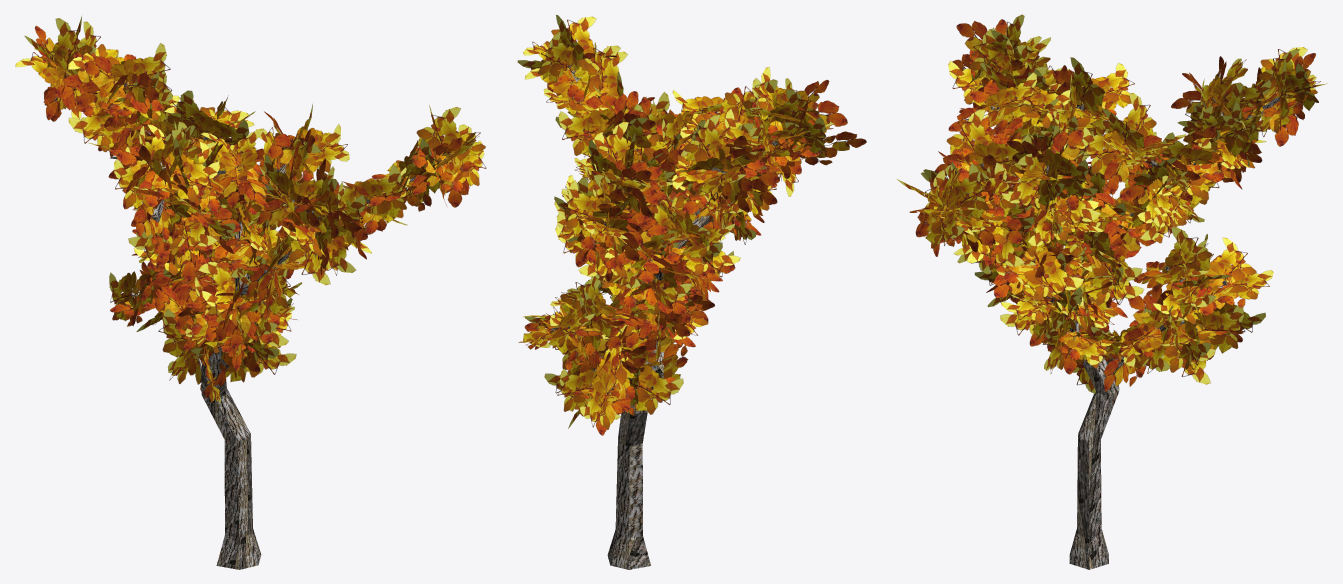
The picture shows the model from 3 angles, left to right: view 1: azimuth 30°, elevation 25°; view 2: azimuth 150°, elevation 25°; view 3: azimuth 270°, elevation 25°; orthographic projection. The views are drawn at different scales.
Visible parts, largest first — view 1: tree, tree|branch|Dupli|168, tree|branch|Dupli|45, tree|branch|Dupli|32, tree|branch|Dupli|25, tree|branch|Dupli|278, tree|branch|Dupli|297, tree|branch|Dupli|279, tree|branch|Dupli|24, tree|branch|Dupli|201, tree|branch|Dupli|33, tree|branch|Dupli|237 (+27 smaller); view 2: tree, tree|branch|Dupli|42, tree|branch|Dupli|177, tree|branch|Dupli|266, tree|branch|Dupli|26, tree|branch|Dupli|240, tree|branch|Dupli|250, tree|branch|Dupli|267, tree|branch|Dupli|167, tree|branch|Dupli|19, tree|branch|Dupli|35, tree|branch|Dupli|270 (+48 smaller); view 3: tree, branch, tree|branch|Dupli|279, tree|branch|Dupli|252, tree|branch|Dupli|242, tree|branch|Dupli|35, tree|branch|Dupli|210, tree|branch|Dupli|243, tree|branch|Dupli|201, tree|branch|Dupli|273, tree|branch|Dupli|270, tree|branch|Dupli|33 (+45 smaller).
Part boxes in pixels (x1=…): tree: x1=66, y1=74, x2=447, y2=569; tree|branch|Dupli|168: x1=116, y1=145, x2=220, y2=202; tree|branch|Dupli|45: x1=77, y1=43, x2=170, y2=107; tree|branch|Dupli|32: x1=416, y1=107, x2=469, y2=207; tree|branch|Dupli|25: x1=359, y1=164, x2=407, y2=234; tree|branch|Dupli|278: x1=208, y1=129, x2=264, y2=207; tree|branch|Dupli|297: x1=68, y1=44, x2=163, y2=114; tree|branch|Dupli|279: x1=201, y1=132, x2=269, y2=207; tree|branch|Dupli|24: x1=411, y1=124, x2=485, y2=194; tree|branch|Dupli|201: x1=167, y1=90, x2=221, y2=142; tree|branch|Dupli|33: x1=412, y1=140, x2=486, y2=192; tree|branch|Dupli|237: x1=268, y1=124, x2=340, y2=181; tree: x1=550, y1=65, x2=821, y2=569; tree|branch|Dupli|42: x1=562, y1=180, x2=642, y2=254; tree|branch|Dupli|177: x1=684, y1=114, x2=739, y2=209; tree|branch|Dupli|266: x1=591, y1=334, x2=635, y2=435; tree|branch|Dupli|26: x1=573, y1=51, x2=627, y2=116; tree|branch|Dupli|240: x1=558, y1=108, x2=652, y2=155; tree|branch|Dupli|250: x1=635, y1=365, x2=683, y2=414; tree|branch|Dupli|267: x1=579, y1=351, x2=629, y2=429; tree|branch|Dupli|167: x1=751, y1=78, x2=847, y2=142; tree|branch|Dupli|19: x1=644, y1=328, x2=688, y2=402; tree|branch|Dupli|35: x1=538, y1=31, x2=585, y2=95; tree|branch|Dupli|270: x1=557, y1=368, x2=596, y2=416; tree: x1=980, y1=92, x2=1287, y2=569; branch: x1=993, y1=243, x2=1083, y2=301; tree|branch|Dupli|279: x1=948, y1=72, x2=1038, y2=136; tree|branch|Dupli|252: x1=1196, y1=237, x2=1256, y2=315; tree|branch|Dupli|242: x1=1001, y1=130, x2=1083, y2=211; tree|branch|Dupli|35: x1=915, y1=163, x2=988, y2=240; tree|branch|Dupli|210: x1=1082, y1=127, x2=1161, y2=182; tree|branch|Dupli|243: x1=1128, y1=294, x2=1215, y2=372; tree|branch|Dupli|201: x1=1104, y1=93, x2=1156, y2=194; tree|branch|Dupli|273: x1=969, y1=84, x2=1070, y2=129; tree|branch|Dupli|270: x1=1195, y1=305, x2=1245, y2=360; tree|branch|Dupli|33: x1=919, y1=176, x2=964, y2=248.
Size of the model in its own units: 2573 by 3439 by 2788.
2 materials, 2 textured.
